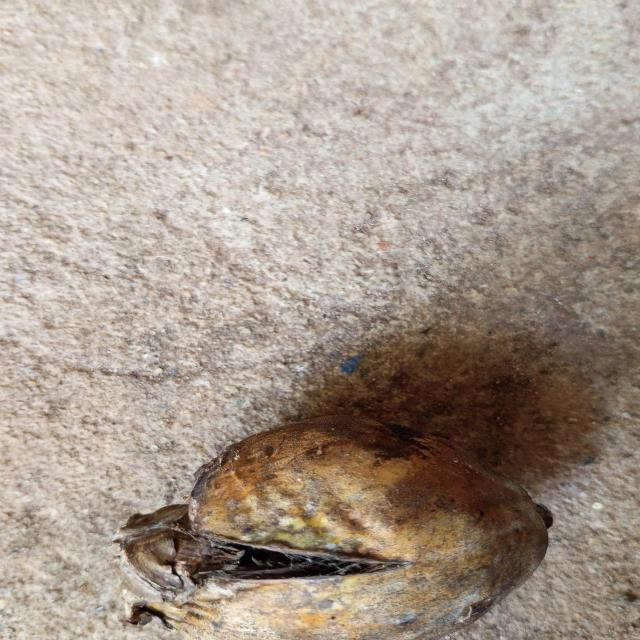damaged: (121, 407, 552, 640)
